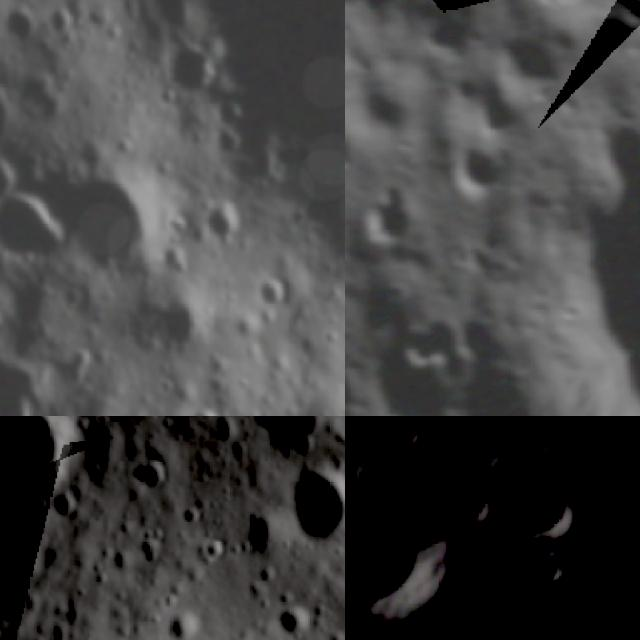crater: (345, 473, 471, 640), (42, 148, 158, 279), (0, 416, 114, 523), (504, 460, 590, 558), (270, 449, 345, 558), (583, 418, 640, 529), (386, 314, 469, 386), (151, 290, 217, 362), (158, 36, 219, 102), (357, 192, 419, 250), (522, 544, 581, 600), (609, 505, 640, 607), (452, 470, 500, 532), (452, 146, 501, 204), (194, 197, 245, 250), (266, 596, 320, 640), (0, 0, 38, 49), (40, 0, 77, 45), (247, 274, 290, 310), (0, 145, 24, 206), (0, 380, 40, 416), (610, 0, 640, 39), (443, 251, 475, 280), (560, 306, 586, 336), (191, 405, 227, 416)
